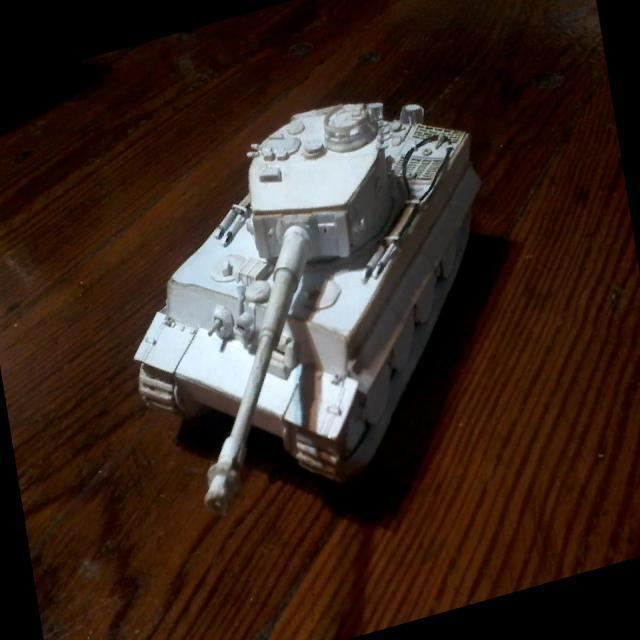Tanks: (138, 99, 482, 524)
